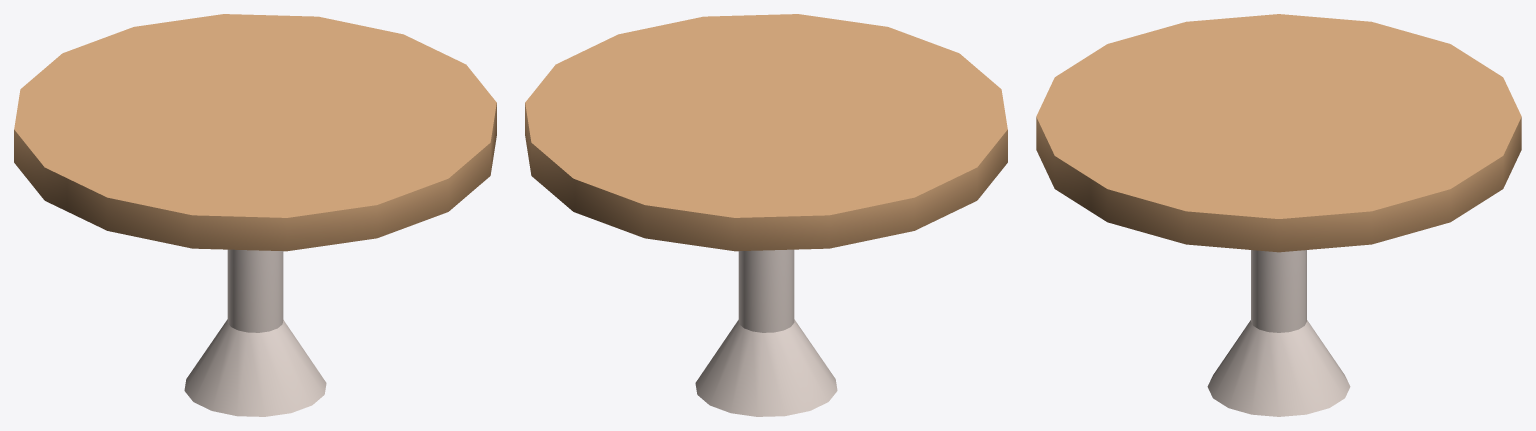
Rendered from Table.fbx.
3 renders of one model, left to right at view 1: azimuth 30°, elevation 25°; view 2: azimuth 150°, elevation 25°; view 3: azimuth 270°, elevation 25°, orthographic.
Parts seen in each view (by area): view 1: Table; view 2: Table; view 3: Table.
Part boxes in pixels (x1,y1,x2,y2): Table: (14, 14, 496, 416); Table: (525, 14, 1007, 416); Table: (1036, 14, 1521, 416).
Bounding box in the file's own units: 1.45 × 0.8913 × 1.45.
